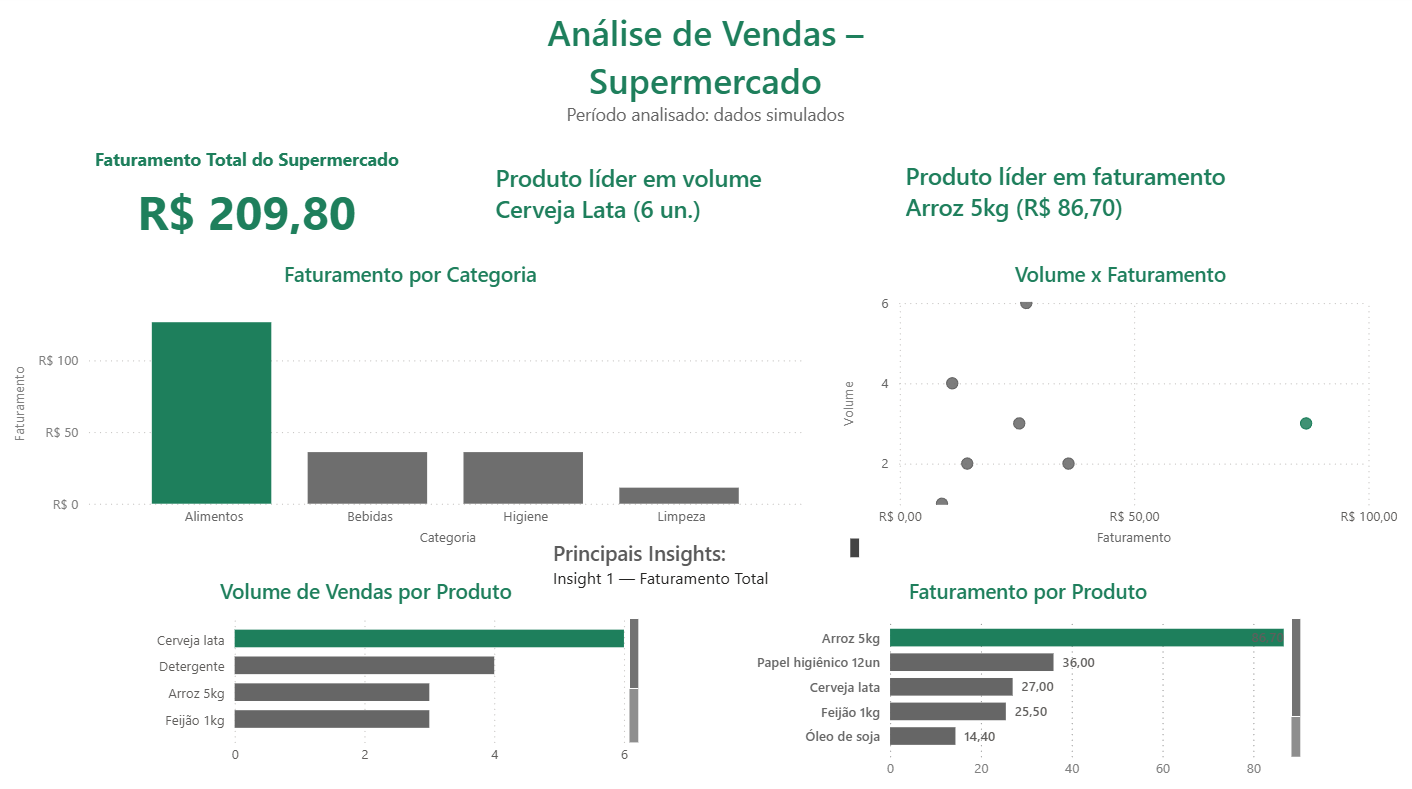

The dashboard page shown, as its layout file describes it:
{"tool":"powerbi","page":{"name":"Página 1","canvas":[1280,720],"ordinal":0},"visuals":[{"type":"cardVisual","title":"Faturamento Total do Supermercado","fields":{"Data":["Sum(Consulta1.Faturamento_total)"]},"box":[80,138.1,288,96],"z":0},{"type":"clusteredBarChart","title":"Faturamento por Produto","fields":{"Category":["Consulta2.nome_produto"],"Y":["Sum(Consulta2.Faturamento_produto)"]},"box":[680,528,504,192],"z":1000},{"type":"barChart","title":"Volume de Vendas por Produto","fields":{"Category":["Consulta2.nome_produto"],"Y":["Sum(Consulta2.quantidade_total)"]},"box":[80,528,504,192],"z":2000},{"type":"columnChart","title":"Faturamento por Categoria","fields":{"Category":["Consulta3.categoria"],"Y":["Sum(Consulta3.faturamento_categoria)"]},"box":[8,240,728,264],"z":3000},{"type":"textbox","box":[445.2,6.3,389,118.8],"z":4000},{"type":"textbox","box":[444.1,146.1,296,80],"z":5000},{"type":"textbox","box":[816.1,144.4,364.5,83.4],"z":7000},{"type":"scatterChart","title":"Volume x Faturamento","fields":{"Category":["Consulta4.nome_produto"],"X":["Sum(Consulta4.Faturamento_produto)"],"Y":["Sum(Consulta4.quantidade_total)"]},"box":[760,240,512,264],"z":8000},{"type":"textbox","box":[496,488,288,56],"z":9000}]}

Visuals, with their boxes in screenshot pixels (x1, y1, x2, y2), scaled from the page's 1280x720 canvas onto the 1412x789 screenshot:
"Faturamento Total do Supermercado" cardVisual: 88, 151, 406, 257
"Faturamento por Produto" clusteredBarChart: 750, 579, 1306, 788
"Volume de Vendas por Produto" barChart: 88, 579, 644, 788
"Faturamento por Categoria" columnChart: 9, 263, 812, 552
textbox: 491, 7, 920, 137
textbox: 490, 160, 816, 248
textbox: 900, 158, 1302, 250
"Volume x Faturamento" scatterChart: 838, 263, 1403, 552
textbox: 547, 535, 865, 596
